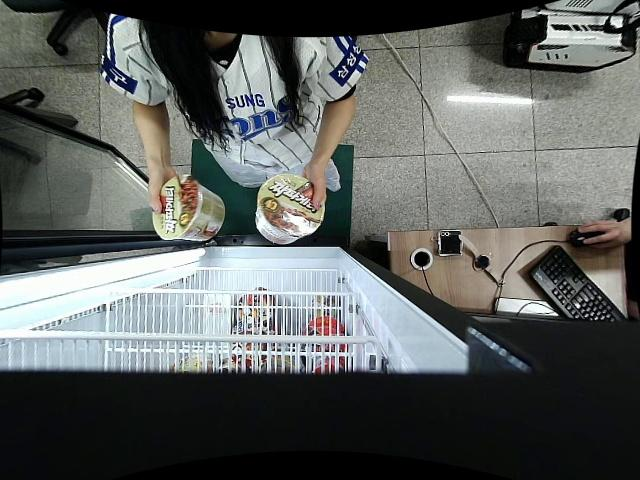00_hand: (145, 166, 178, 215), (302, 159, 331, 212)
03_chapagetti_L: (153, 173, 225, 243), (255, 173, 324, 245)
